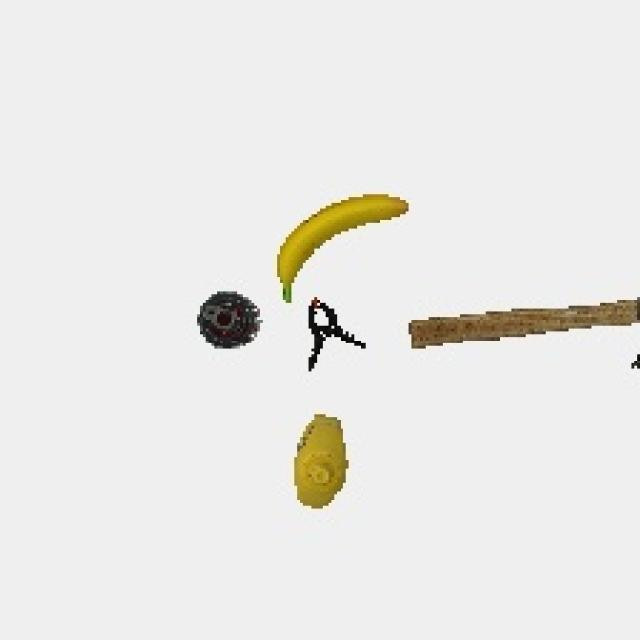MediumClamp: (300, 297, 370, 376)
MustardBottle: (288, 408, 362, 524)
TomatoSoupCan: (188, 285, 268, 352)
